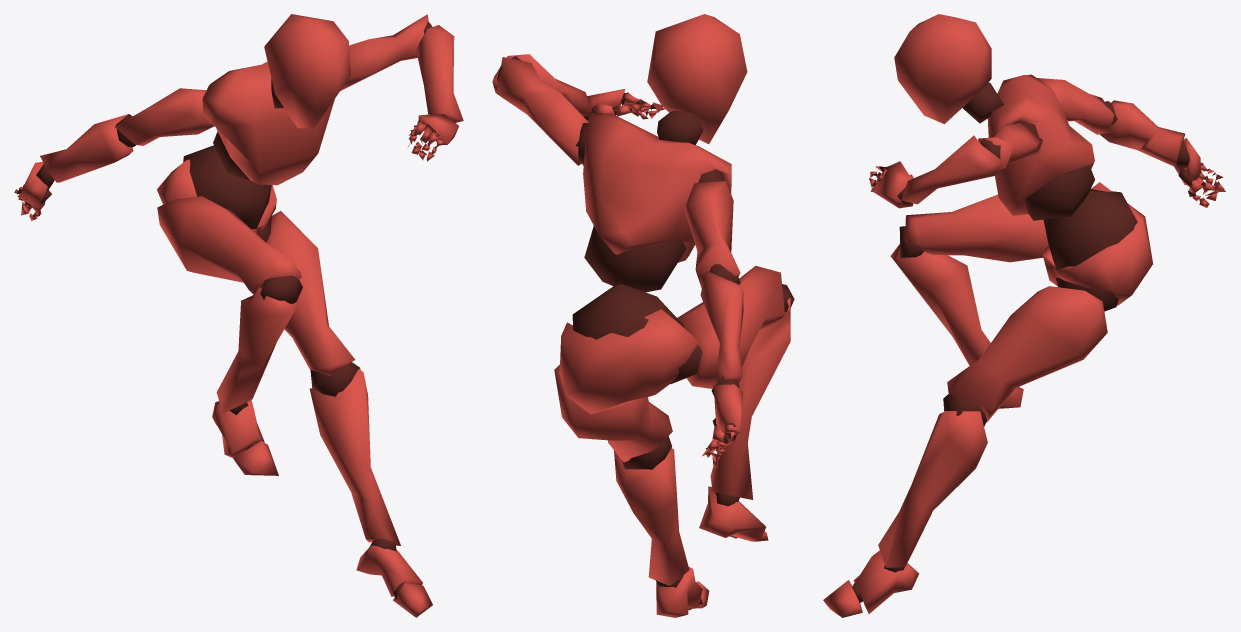
3 views of the same model, side by side, from view 1: azimuth 30°, elevation 25°; view 2: azimuth 150°, elevation 25°; view 3: azimuth 270°, elevation 25° (orthographic). The views are drawn at different scales.
Visible parts, largest first — view 1: Beta_Surface; view 2: Beta_Surface; view 3: Beta_Surface.
Part boxes in pixels (bbox=[...]): Beta_Surface: bbox=[14, 14, 463, 617]; Beta_Surface: bbox=[492, 14, 794, 617]; Beta_Surface: bbox=[823, 14, 1225, 617].
Size of the model in its own units: 8.16 by 13.72 by 8.81.
